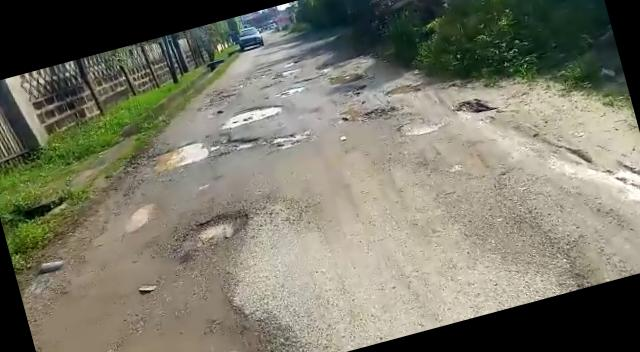pothole: (150, 126, 255, 174), (169, 203, 258, 256), (220, 98, 286, 129), (266, 126, 312, 152), (398, 115, 443, 141)
